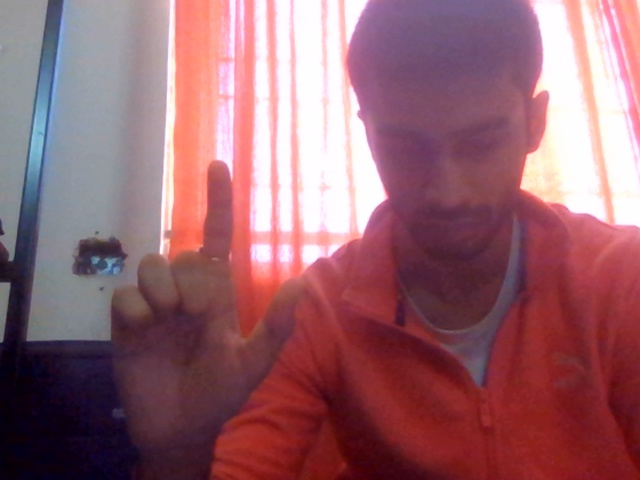L: (50, 112, 311, 469)
